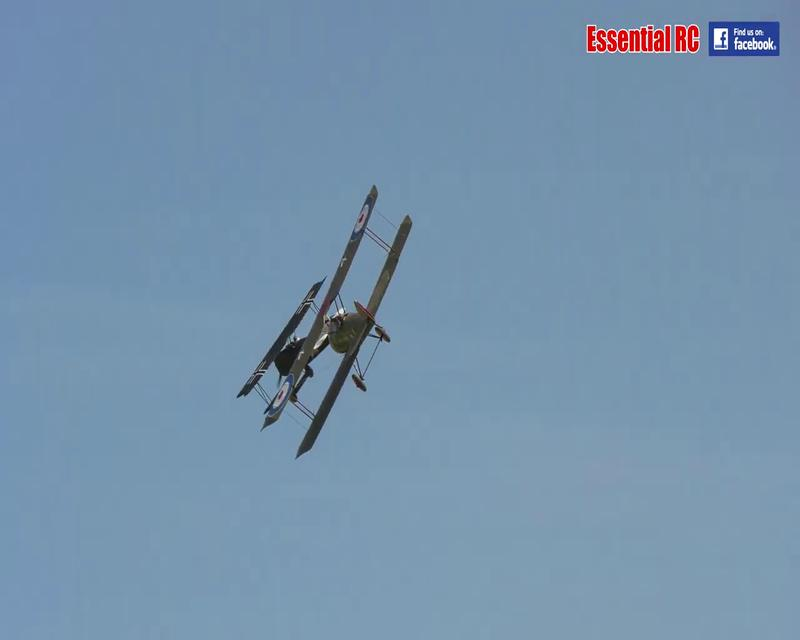UAV: (235, 183, 413, 459)
